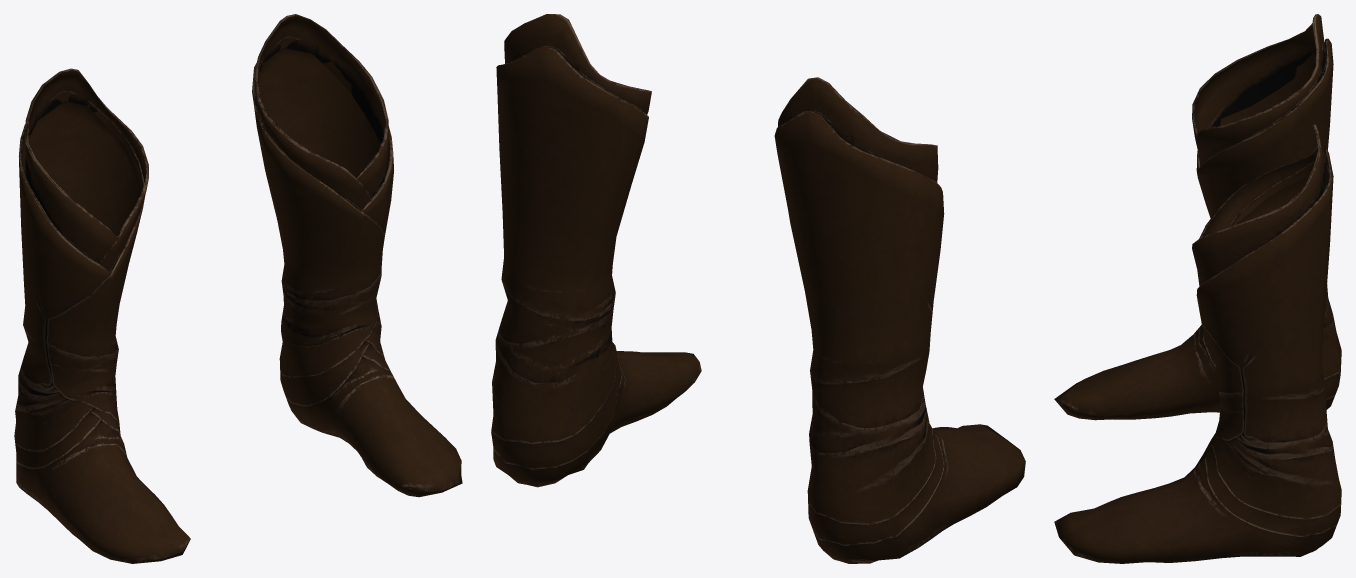
Rendered from rivendell_boots_leather2.fbx.
3 renders of one model, left to right at view 1: azimuth 30°, elevation 25°; view 2: azimuth 150°, elevation 25°; view 3: azimuth 270°, elevation 25°, orthographic. The views are drawn at different scales.
Parts seen in each view (by area): view 1: rivendell_boots_leather2; view 2: rivendell_boots_leather2; view 3: rivendell_boots_leather2.
Boxes of the visible parts, bbox=[...] form: rivendell_boots_leather2: bbox=[14, 14, 462, 563]; rivendell_boots_leather2: bbox=[491, 14, 1025, 563]; rivendell_boots_leather2: bbox=[1054, 14, 1341, 563].
Bounding box in the file's own units: 0.4477 × 0.3 × 0.469.
Materials: 1 (1 with a texture image).
